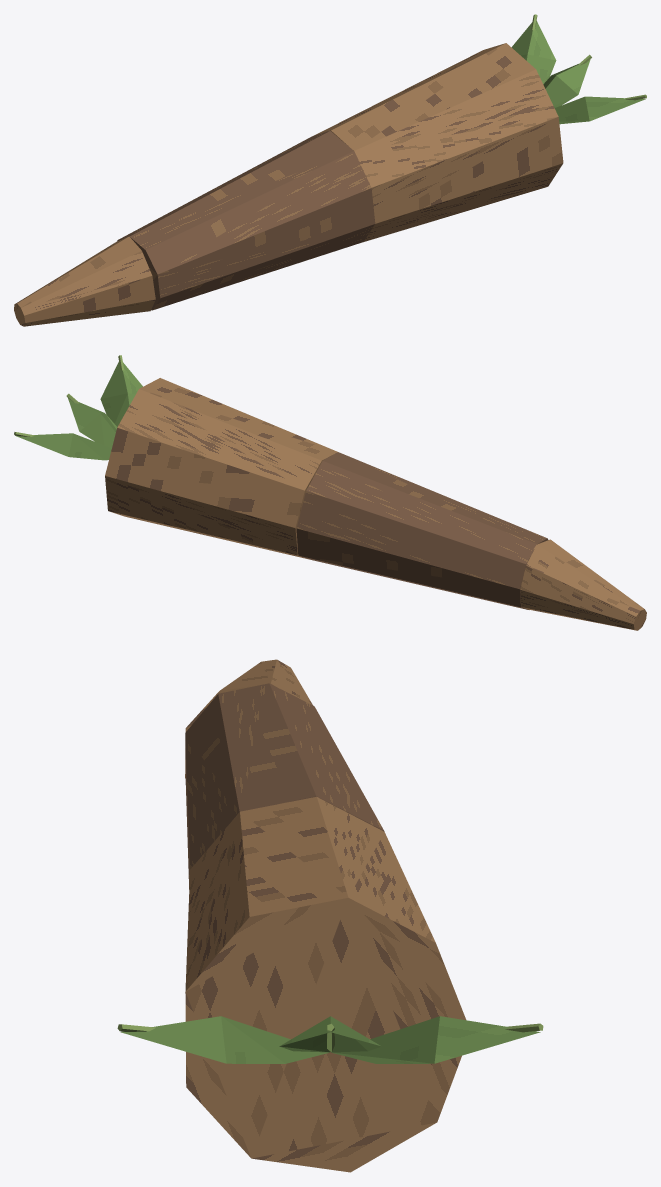
The model's file is raw_burdock.glb.
The picture shows the model from 3 angles, top to bottom: view 1: azimuth 30°, elevation 25°; view 2: azimuth 150°, elevation 25°; view 3: azimuth 270°, elevation 25°; orthographic projection. The views are drawn at different scales.
Visible parts, largest first — view 1: block_tapering root 2, block_tapering root 1, block_tapering root 0, block_trimmed leaf stalk tip (×3), block_trimmed leaf stalk blade (×3); view 2: block_tapering root 2, block_tapering root 1, block_tapering root 0, block_trimmed leaf stalk blade (×3), block_trimmed leaf stalk tip (×3); view 3: block_tapering root 2, block_tapering root 1, block_trimmed leaf stalk blade (×2), block_trimmed leaf stalk tip (×2), block_tapering root 0.
Part boxes in pixels (box(x1,y1,x2,y2)): block_tapering root 2: box(313, 43, 563, 241); block_tapering root 1: box(117, 131, 375, 310); block_tapering root 0: box(14, 236, 155, 326); block_trimmed leaf stalk tip (×3): box(527, 21, 645, 121); block_trimmed leaf stalk blade (×3): box(527, 54, 589, 124); block_tapering root 2: box(105, 378, 337, 559); block_tapering root 1: box(296, 452, 548, 609); block_tapering root 0: box(520, 539, 646, 630); block_trimmed leaf stalk blade (×3): box(68, 393, 129, 460); block_trimmed leaf stalk tip (×3): box(15, 362, 127, 456); block_tapering root 2: box(185, 796, 466, 1172); block_tapering root 1: box(185, 683, 384, 889); block_trimmed leaf stalk blade (×2): box(221, 1016, 439, 1063); block_trimmed leaf stalk tip (×2): box(120, 1016, 540, 1063); block_tapering root 0: box(185, 659, 312, 778).
Bounding box in the file's own units: 0.1115 × 0.0275 × 0.0366.
Materials: 2 (2 with a texture image).
